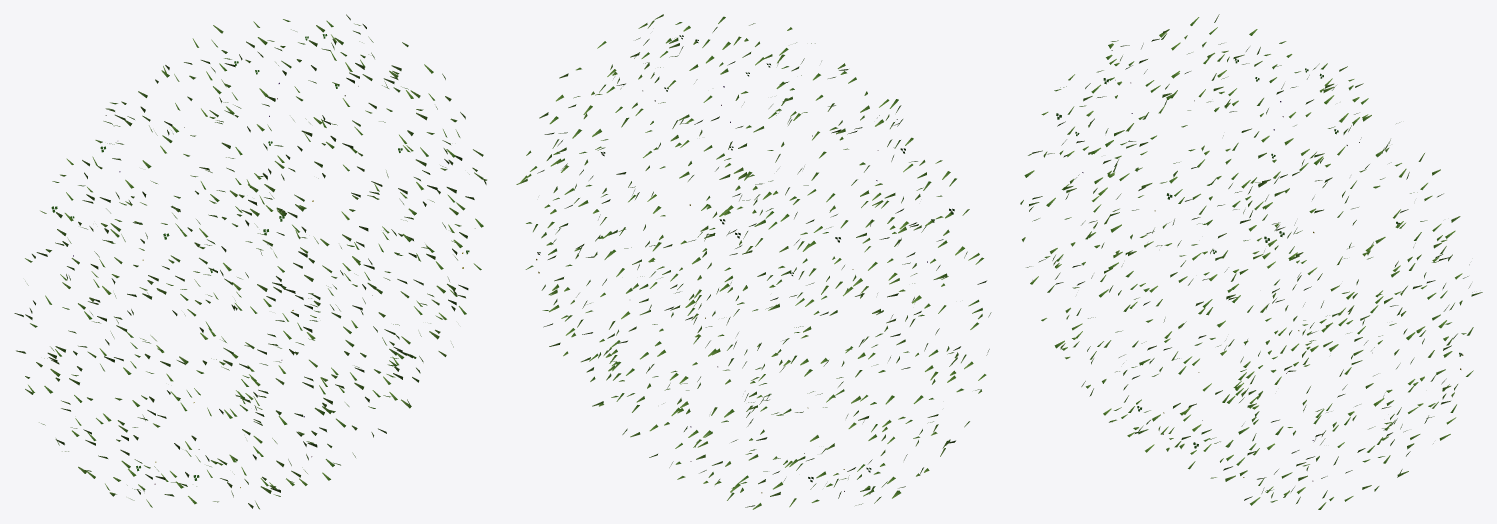
Rendered from Grass_Tile_OpenLawn.glb.
The picture shows the model from 3 angles, left to right: view 1: azimuth 30°, elevation 25°; view 2: azimuth 150°, elevation 25°; view 3: azimuth 330°, elevation 25°; orthographic projection. The views are drawn at different scales.
Visible parts, largest first — view 1: Grass_Tile_OpenLawn; view 2: Grass_Tile_OpenLawn; view 3: Grass_Tile_OpenLawn.
Part boxes in pixels (x1,y1,x2,y2): Grass_Tile_OpenLawn: (14,14,486,509); Grass_Tile_OpenLawn: (516,14,991,509); Grass_Tile_OpenLawn: (1020,14,1482,509).
Size of the model in its own units: 2.01 by 2 by 0.0707.
